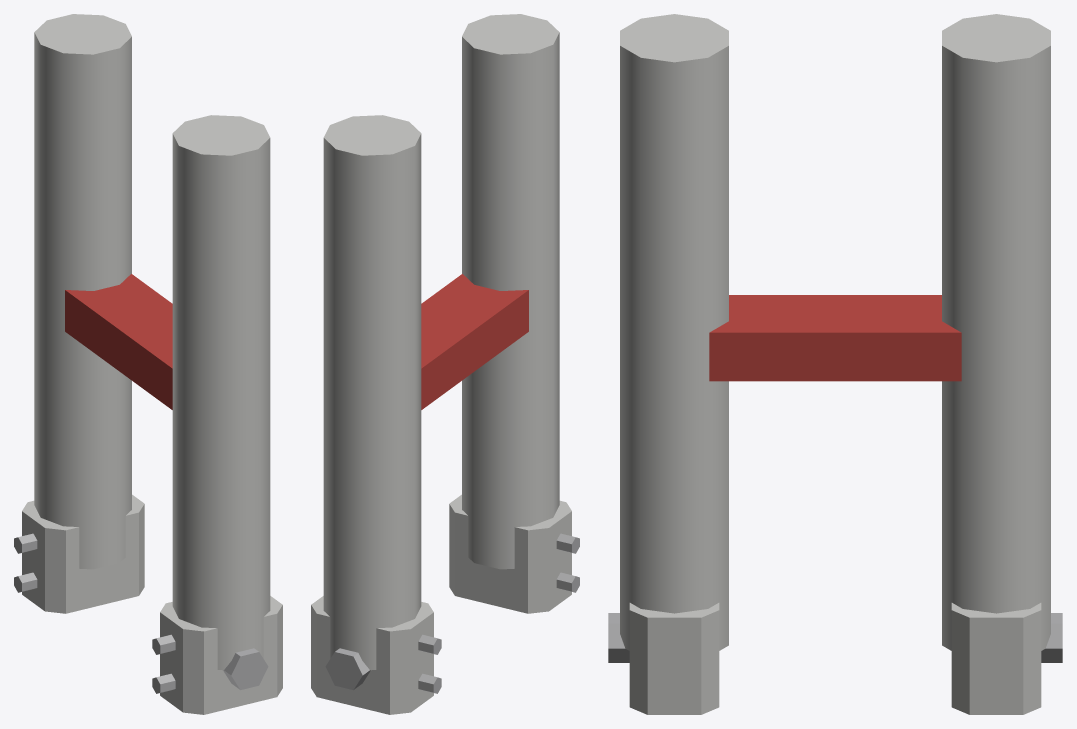
The model's file is naked_conventional_lower_lod1.glb.
3 views of the same model, side by side, from view 1: azimuth 30°, elevation 25°; view 2: azimuth 150°, elevation 25°; view 3: azimuth 270°, elevation 25° (orthographic). The views are drawn at different scales.
Visible parts, largest first — view 1: naked_conventional_lower_lod1; view 2: naked_conventional_lower_lod1; view 3: naked_conventional_lower_lod1.
Boxes of the visible parts, box(x1,y1,x2,y2) form: naked_conventional_lower_lod1: box(14, 14, 282, 714); naked_conventional_lower_lod1: box(311, 14, 579, 714); naked_conventional_lower_lod1: box(608, 14, 1062, 714).
Size of the model in its own units: 0.0865 by 0.4 by 0.254.
